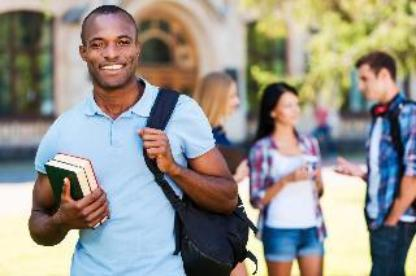person: (27, 3, 247, 276), (340, 48, 415, 276), (246, 78, 330, 276)
